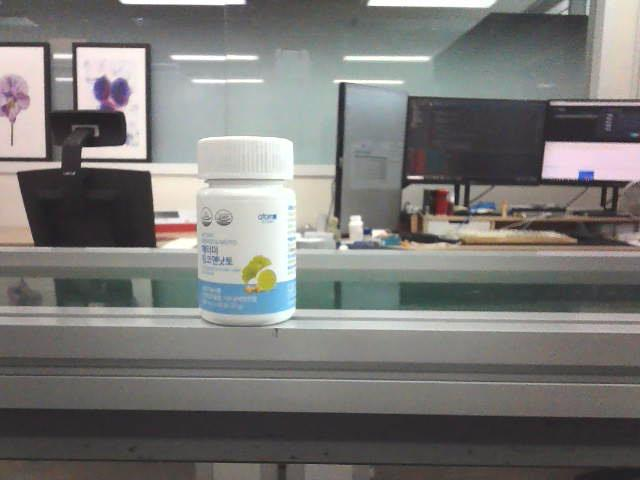labeled: (192, 128, 301, 330)
